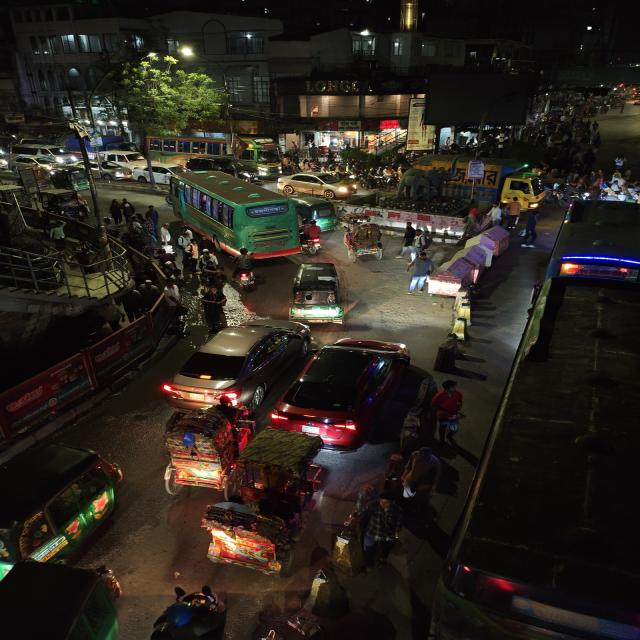bicycle: (445, 282, 483, 341)
bus: (162, 174, 300, 258), (548, 200, 640, 288), (146, 136, 280, 170)
car: (270, 336, 414, 444), (160, 320, 309, 410), (280, 171, 359, 198), (9, 138, 80, 168)
cng: (0, 439, 123, 578), (0, 561, 129, 640), (286, 261, 350, 323), (308, 198, 341, 232)
motorcycle: (230, 253, 262, 290), (298, 220, 324, 254)
pedestrian: (148, 582, 235, 640), (426, 378, 474, 444), (432, 332, 472, 375), (403, 252, 437, 294), (396, 220, 423, 260), (519, 210, 542, 248), (505, 198, 523, 230)
rickshaw: (196, 482, 324, 578), (156, 410, 248, 498), (426, 255, 481, 299), (341, 220, 388, 263)
truck: (430, 156, 542, 206)
